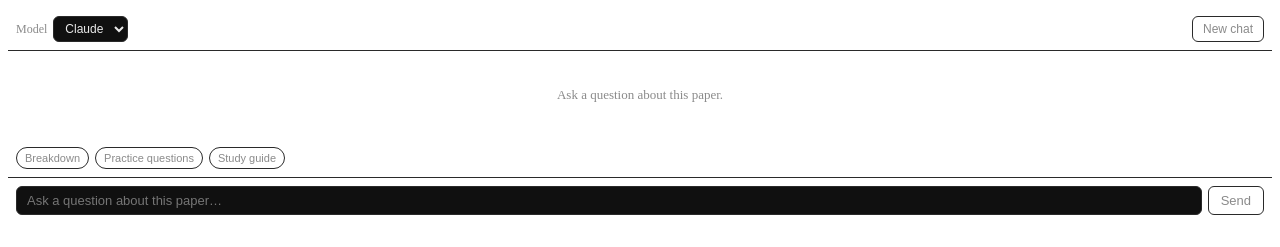
Test case: AskPanel › sends a turn, streams chunks into a growing reply, then finalizes on done
This screenshot has width=1280, height=247.
Type "What is the core contribution?" into the field labelled "Ask a question about this paper…" at point(609, 200), box [16,186,1202,215]
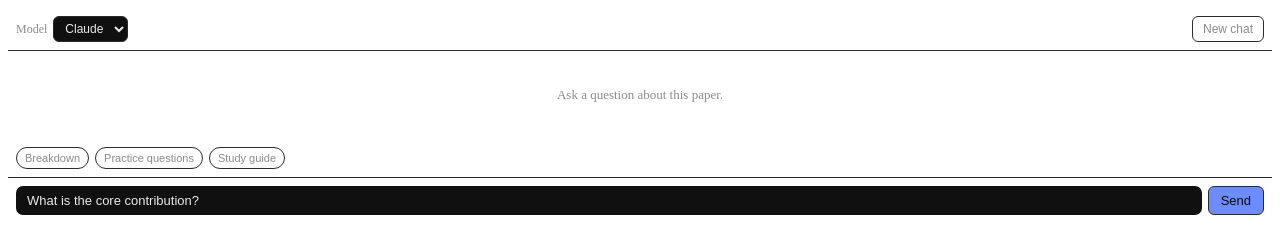
Click the button "Send" at point(1236, 200), box [1208,186,1264,215]
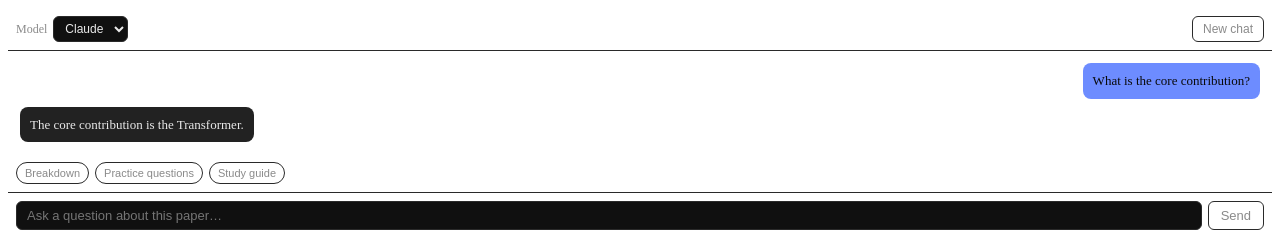
Expected: the field labelled "Ask a question about this paper…" is enabled, [16,201,1202,230]
Expected: the text "What is the core contribution?" is shown, [1083,63,1260,98]
Expected: the text "The core contribution is the Transformer." is shown, [20,106,254,142]
